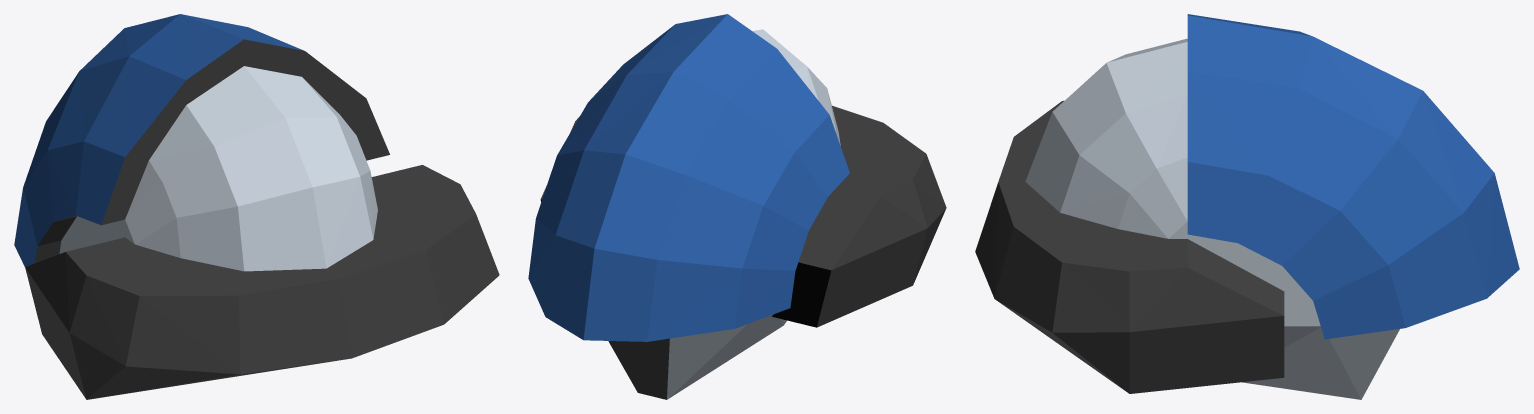
The model's file is Head.FBX.
3 renders of one model, left to right at view 1: azimuth 30°, elevation 25°; view 2: azimuth 150°, elevation 25°; view 3: azimuth 270°, elevation 25°, orthographic. The views are drawn at different scales.
Parts seen in each view (by area): view 1: VIFS002, VIFS003, VIFS001; view 2: VIFS001, VIFS002, VIFS003, VIFS004; view 3: VIFS001, VIFS002, VIFS003.
Part boxes in pixels (<box>): VIFS002: <box>25,39,499,399</box>; VIFS003: <box>59,66,377,271</box>; VIFS001: <box>14,14,304,266</box>; VIFS001: <box>528,14,849,341</box>; VIFS002: <box>540,105,946,399</box>; VIFS003: <box>667,29,840,399</box>; VIFS004: <box>540,199,831,327</box>; VIFS001: <box>1187,14,1519,339</box>; VIFS002: <box>975,100,1284,393</box>; VIFS003: <box>1025,38,1399,399</box>.
Bounding box in the file's own units: 0.24 × 0.215 × 0.282.
